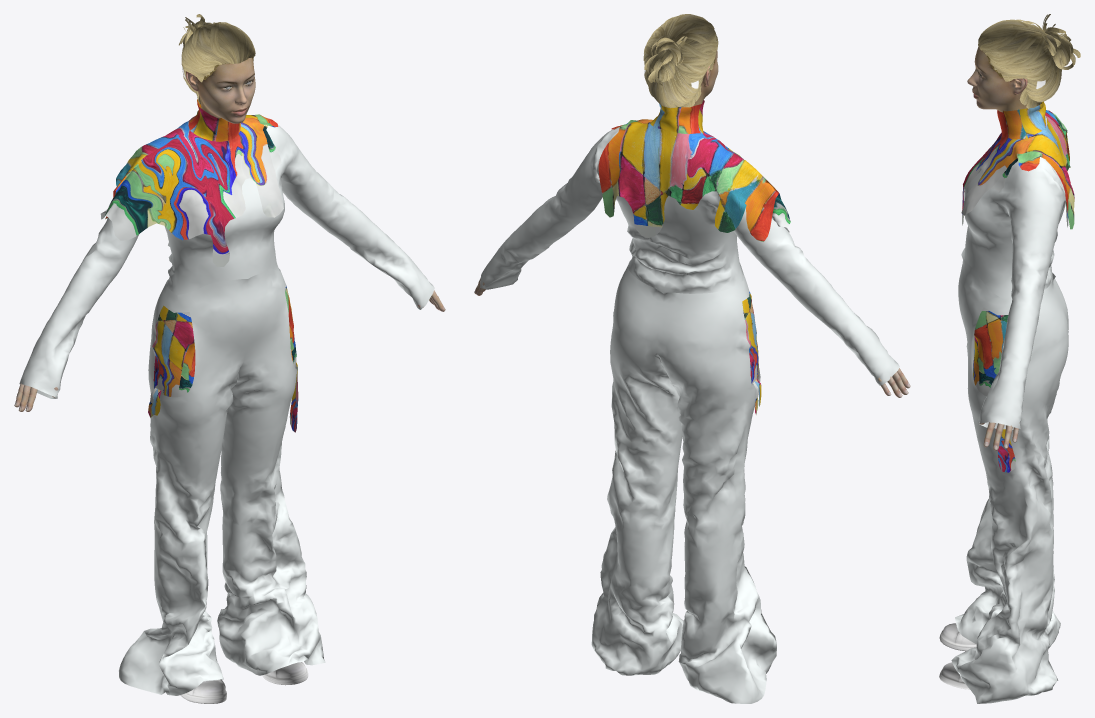
File: ruha.fbx
3 renders of one model, left to right at view 1: azimuth 30°, elevation 25°; view 2: azimuth 150°, elevation 25°; view 3: azimuth 270°, elevation 25°, orthographic.
Visible parts, largest first — view 1: ruha, body, hair_Shape, shoes_r_Shape, shoes_l_Shape; view 2: ruha, hair_Shape, body; view 3: ruha, hair_Shape, body, shoes_r_Shape, shoes_l_Shape.
Part boxes in pixels (x1,y1,x2,y2): ruha: (19,99,434,695); body: (14,57,445,411); hair_Shape: (179,14,255,104); shoes_r_Shape: (180,679,226,703); shoes_l_Shape: (262,662,308,685); ruha: (480,100,899,703); hair_Shape: (643,14,718,108); body: (474,50,910,397); ruha: (951,101,1074,703); hair_Shape: (978,14,1080,111); body: (967,47,1027,450); shoes_r_Shape: (939,623,976,651); shoes_l_Shape: (939,662,969,689).
Size of the model in its own units: 1235 by 1795 by 359.
